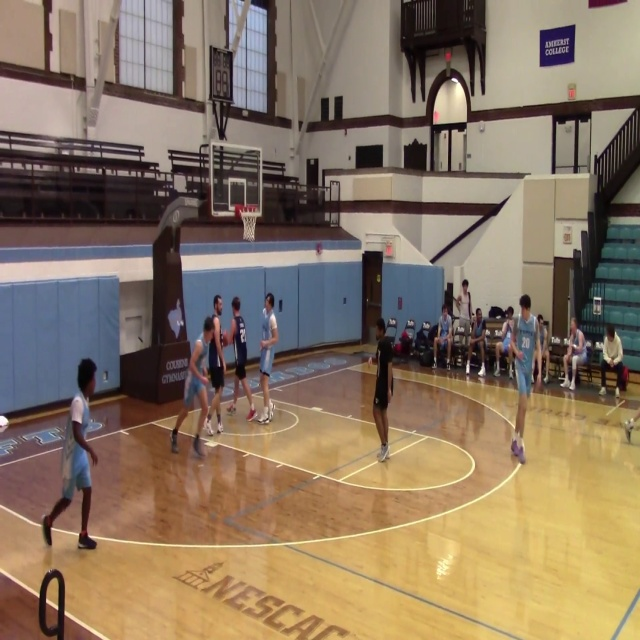Basketball: (0, 415, 9, 433), (220, 331, 228, 347)
